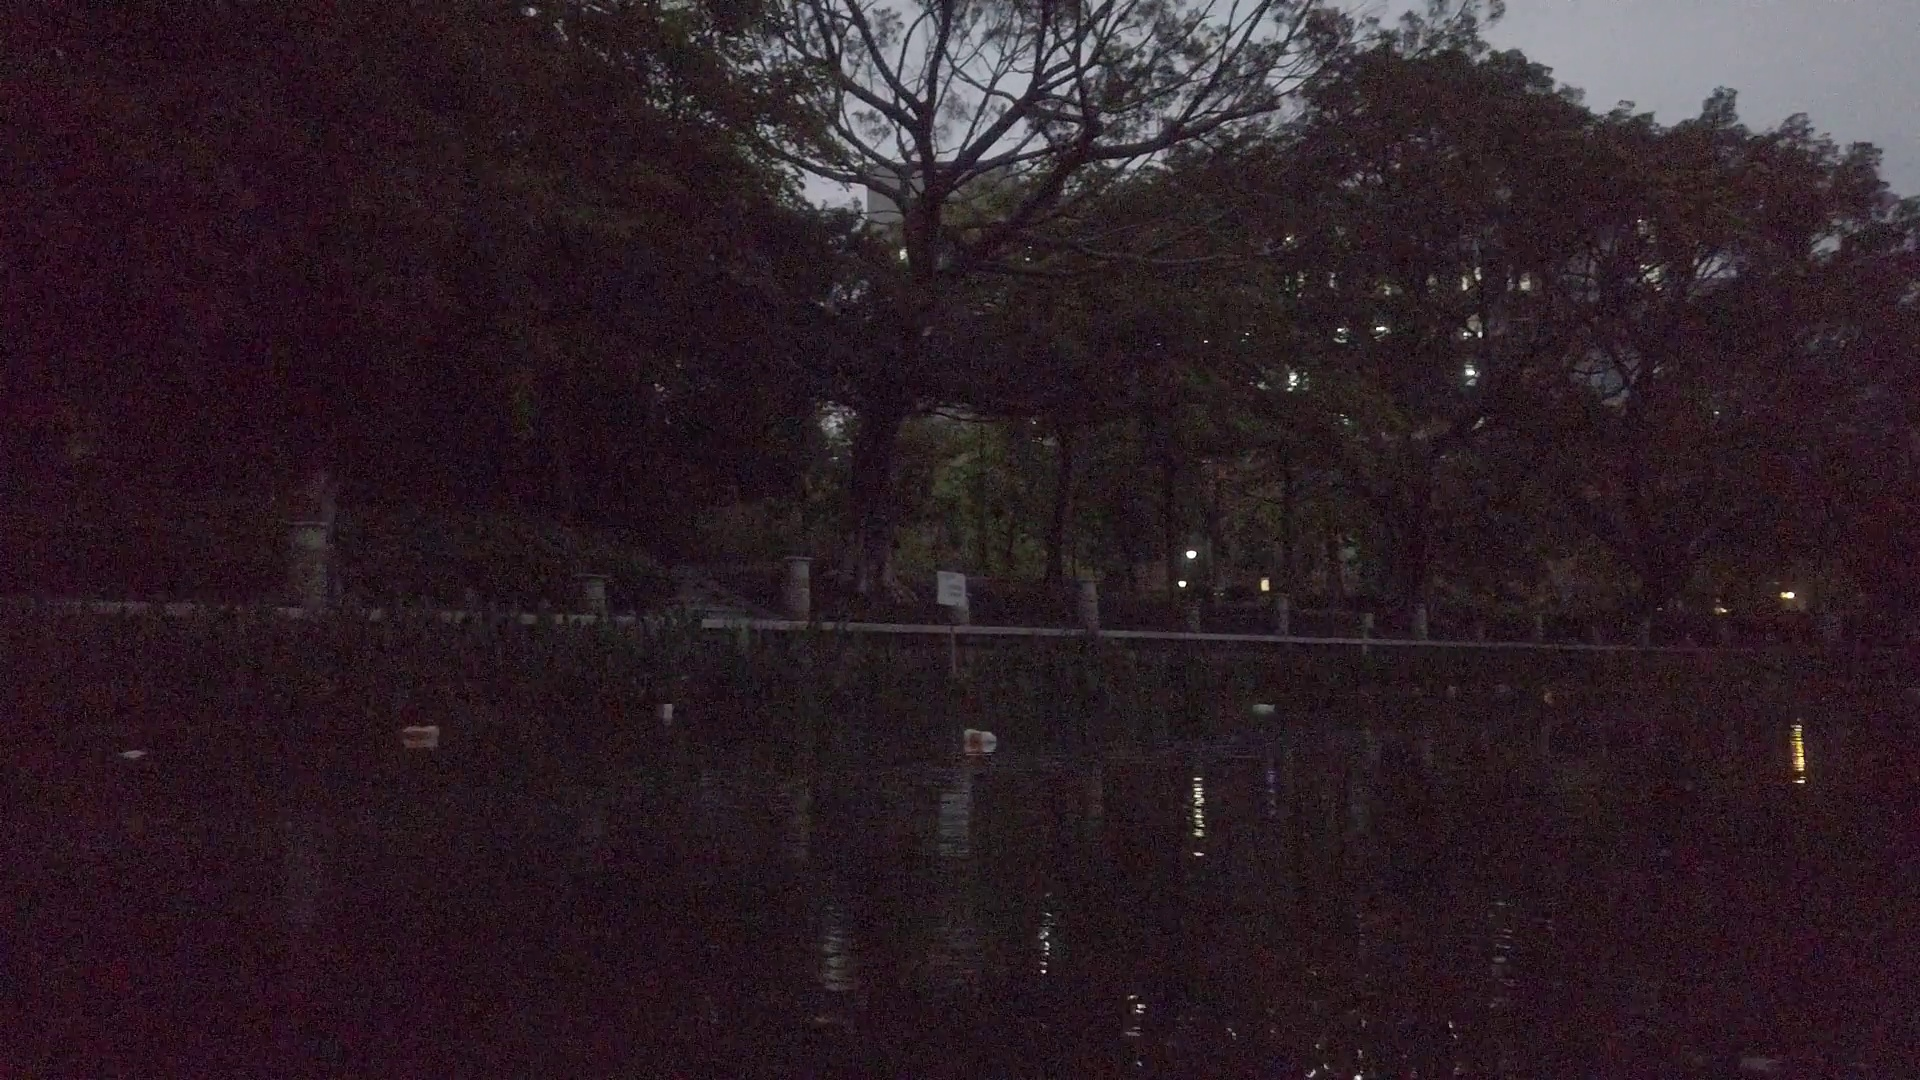bottle: (963, 728, 1000, 745), (404, 725, 440, 740)
carton: (1251, 702, 1276, 715), (659, 702, 674, 719)
paper: (115, 746, 145, 767)
